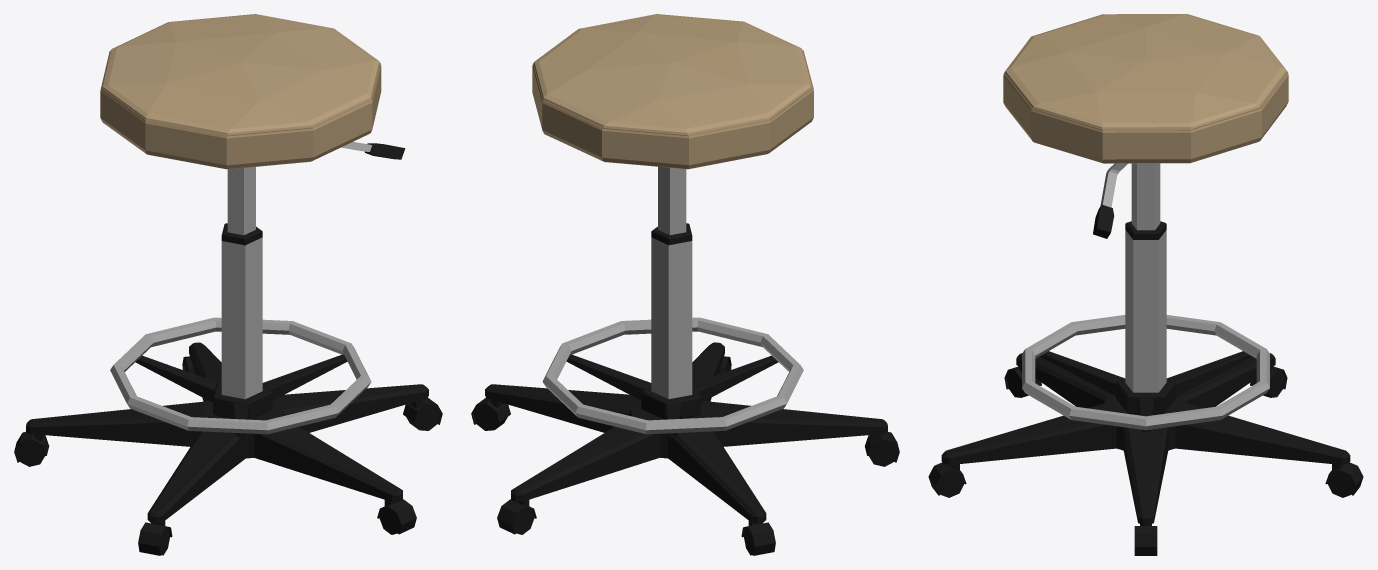
The model's file is Int_Chair04_1.fbx.
3 renders of one model, left to right at view 1: azimuth 30°, elevation 25°; view 2: azimuth 150°, elevation 25°; view 3: azimuth 270°, elevation 25°, orthographic.
Visible parts, largest first — view 1: Int_Chair04_1; view 2: Int_Chair04_1; view 3: Int_Chair04_1.
Boxes of the visible parts, x1,y1,x2,y2 form: Int_Chair04_1: (14, 14, 442, 555); Int_Chair04_1: (471, 14, 899, 555); Int_Chair04_1: (928, 14, 1363, 555).
Size of what is drawn, in the model's own units: 55.4 by 58.25 by 60.05.
